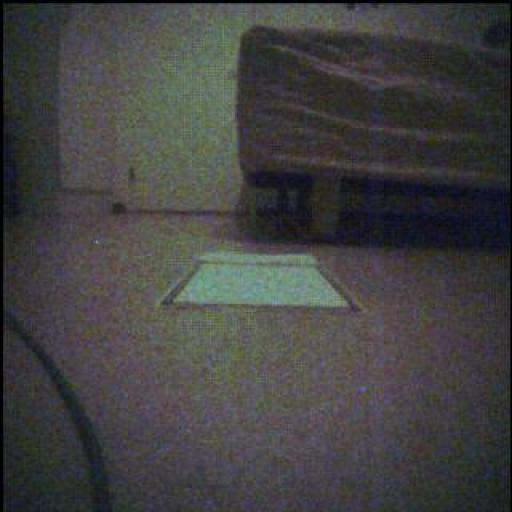pad: (163, 254, 353, 310)
